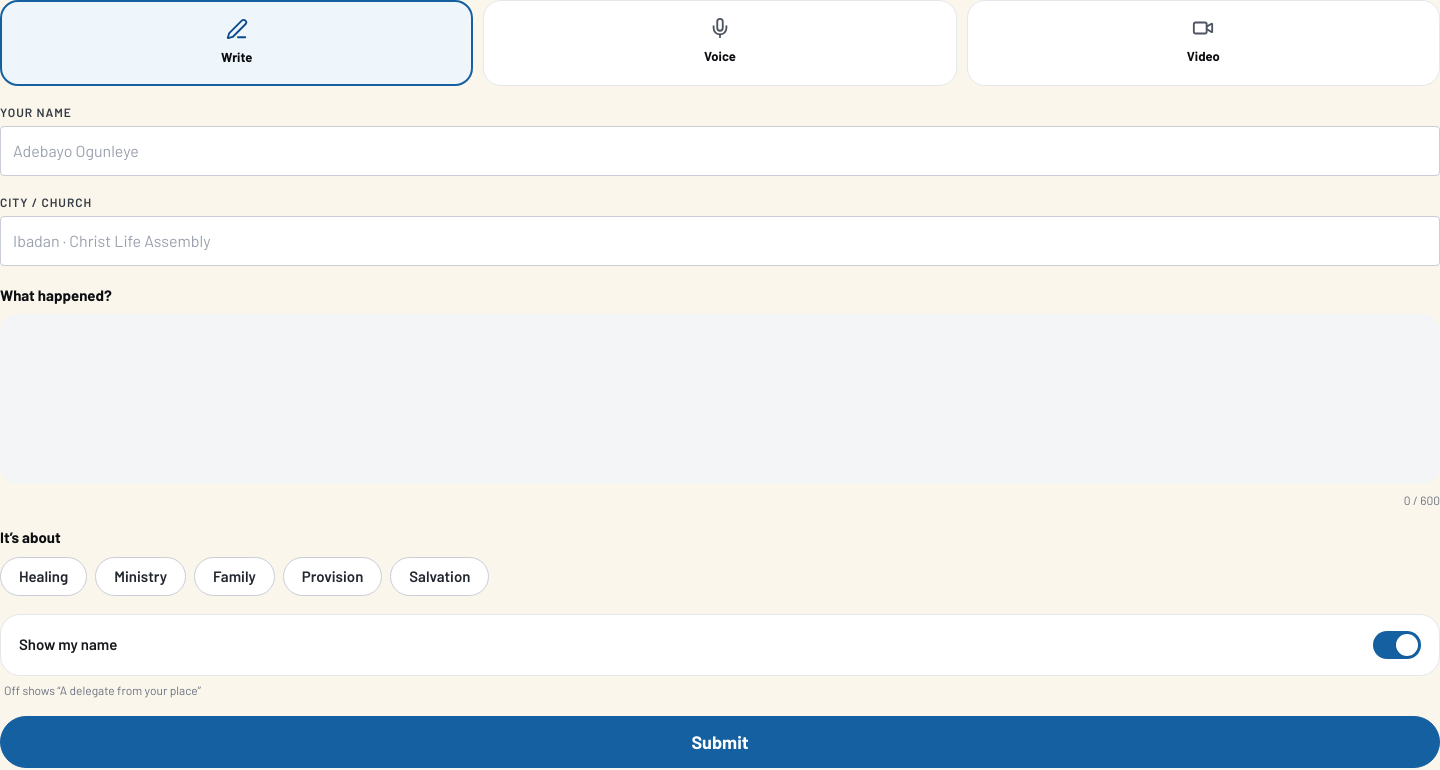
Scenario: ShareForm › asks guests for a name and checks the testimony length
This screenshot has width=1440, height=770.
Click the button "Submit". click: (720, 742)
box: [0, 716, 1439, 768]
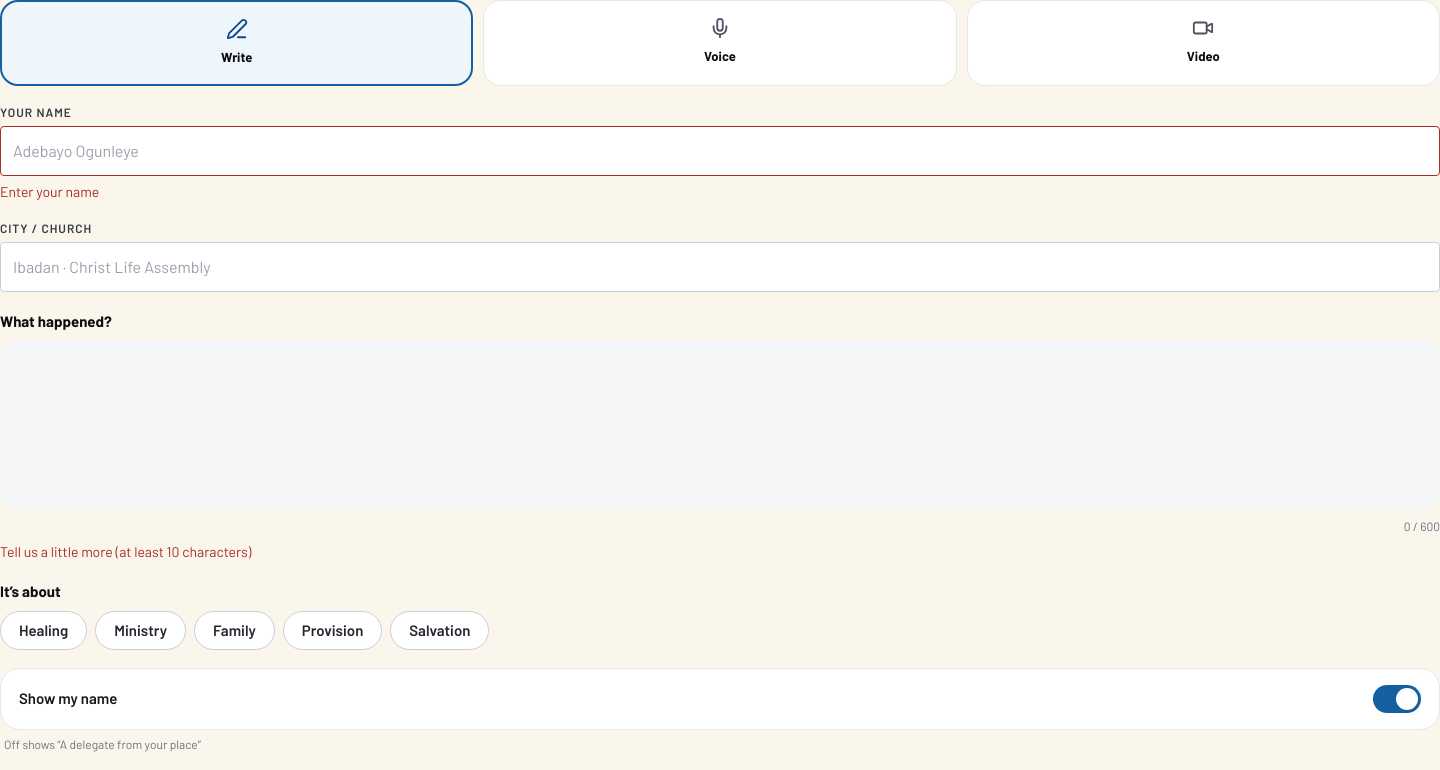
Expected: the text "Enter your name" is shown, [0, 182, 99, 200]
Expected: the text "Tell us a little more (at least 10 characters)" is shown, [0, 543, 252, 560]
